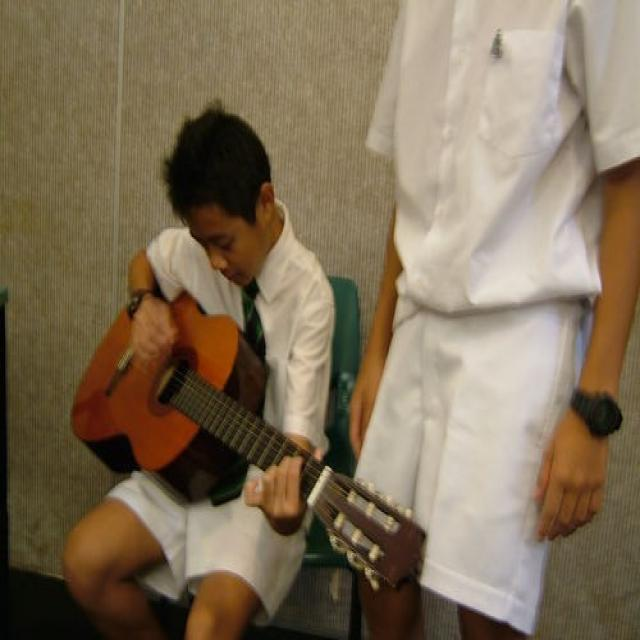guitar: (68, 280, 431, 596)
